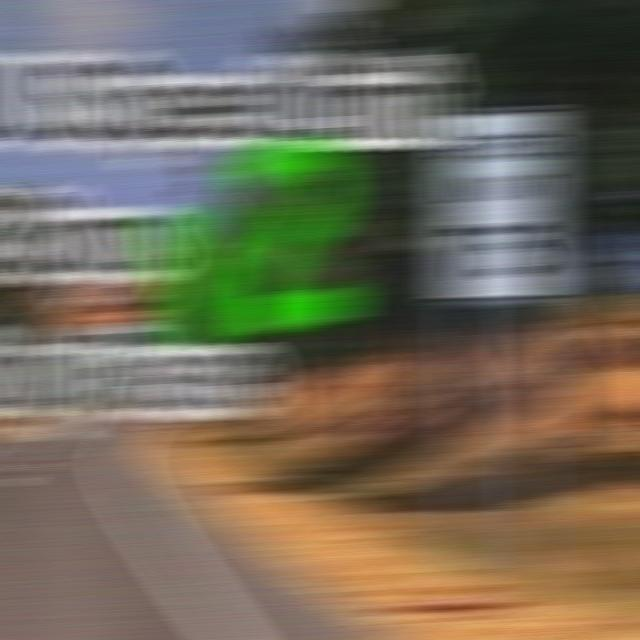speedLimit75: (438, 106, 555, 300)
